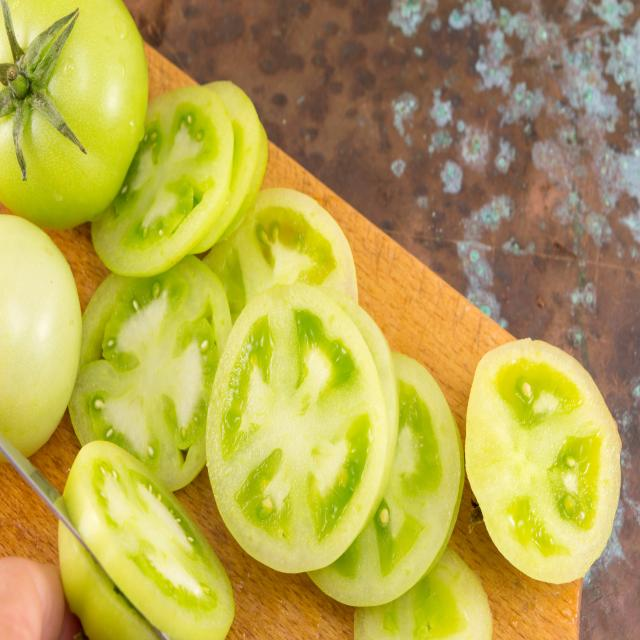unripe tomato: (1, 2, 154, 227), (0, 245, 94, 424)
